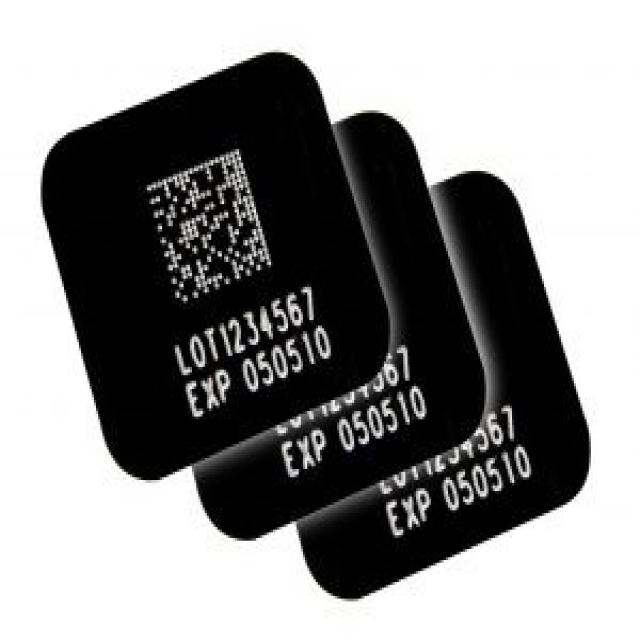datamatrix: (130, 141, 280, 306)
